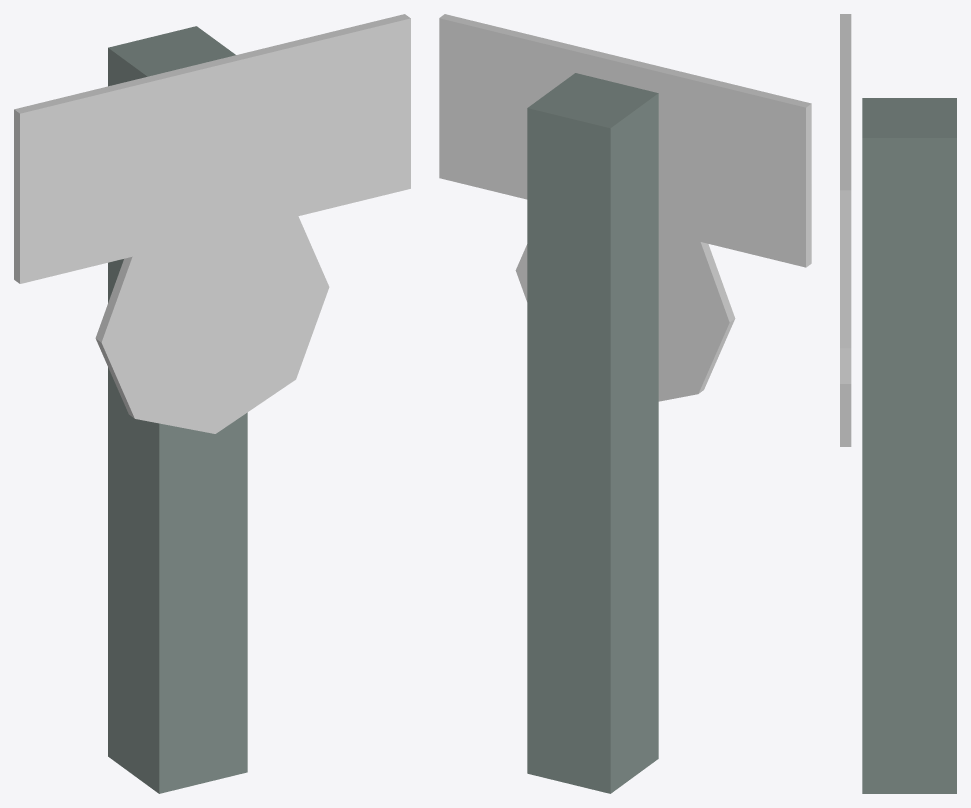
File: SM_Senal_v3_Doble_LOD1.fbx
3 views of the same model, side by side, from view 1: azimuth 30°, elevation 25°; view 2: azimuth 150°, elevation 25°; view 3: azimuth 270°, elevation 25° (orthographic). The views are drawn at different scales.
Visible parts, largest first — view 1: SM_urbano_extra_v18_LOD1; view 2: SM_urbano_extra_v18_LOD1; view 3: SM_urbano_extra_v18_LOD1.
Part boxes in pixels (left/top/right/bottom): SM_urbano_extra_v18_LOD1: left=14, top=14, right=410, bottom=793; SM_urbano_extra_v18_LOD1: left=439, top=14, right=811, bottom=793; SM_urbano_extra_v18_LOD1: left=840, top=14, right=956, bottom=793.
Bounding box in the file's own units: 1.5 × 2.66 × 0.42.
